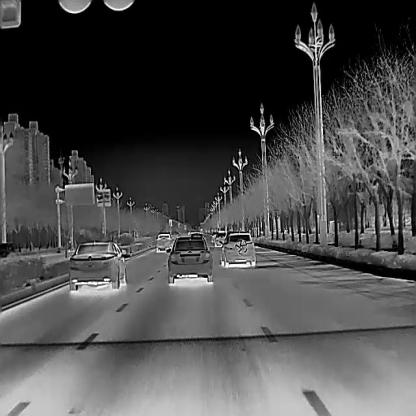car: (68, 240, 127, 291), (165, 234, 213, 282), (218, 231, 256, 266), (156, 231, 173, 252), (213, 230, 225, 246)
